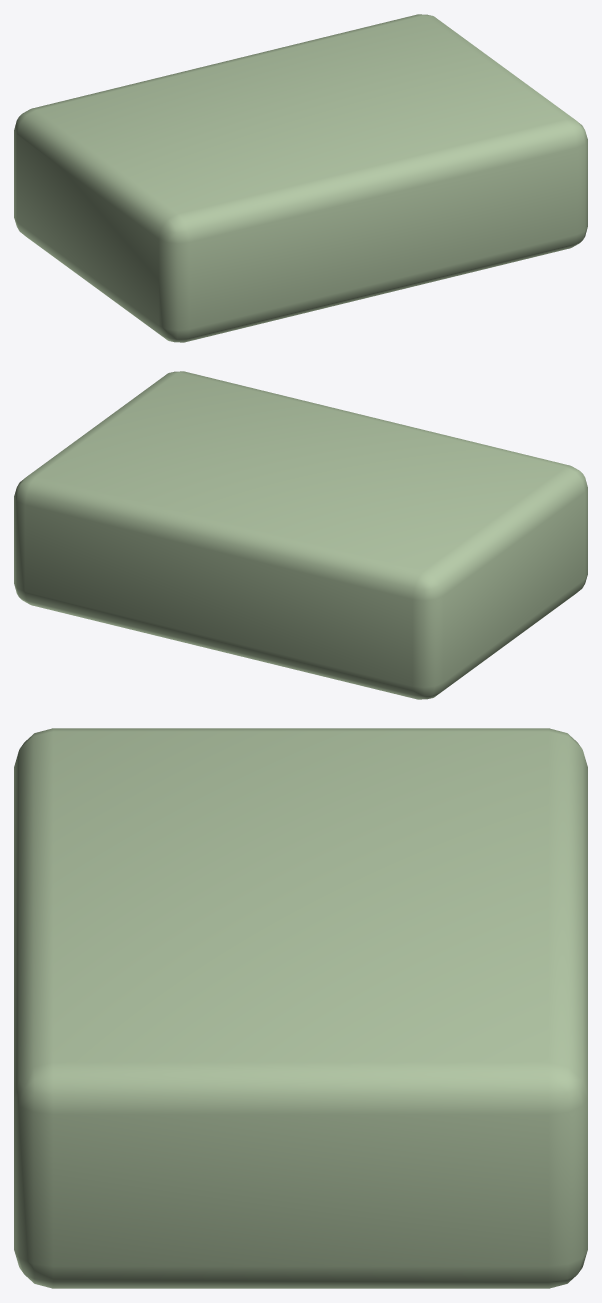
Rendered from charging-dock.glb.
3 views of the same model, one above another, from view 1: azimuth 30°, elevation 25°; view 2: azimuth 150°, elevation 25°; view 3: azimuth 270°, elevation 25° (orthographic). The views are drawn at different scales.
Visible parts, largest first — view 1: body.005; view 2: body.005; view 3: body.005.
Boxes of the visible parts, box(x1,y1,x2,y2) form: body.005: box(14, 14, 587, 342); body.005: box(14, 371, 587, 699); body.005: box(14, 728, 587, 1288).
Size of the model in its own units: 0.42 by 0.12 by 0.28.
